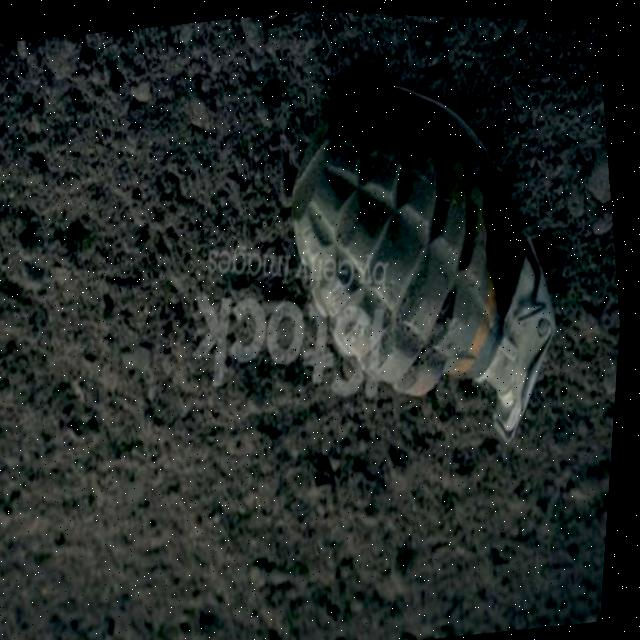grenade: (221, 30, 627, 476)
